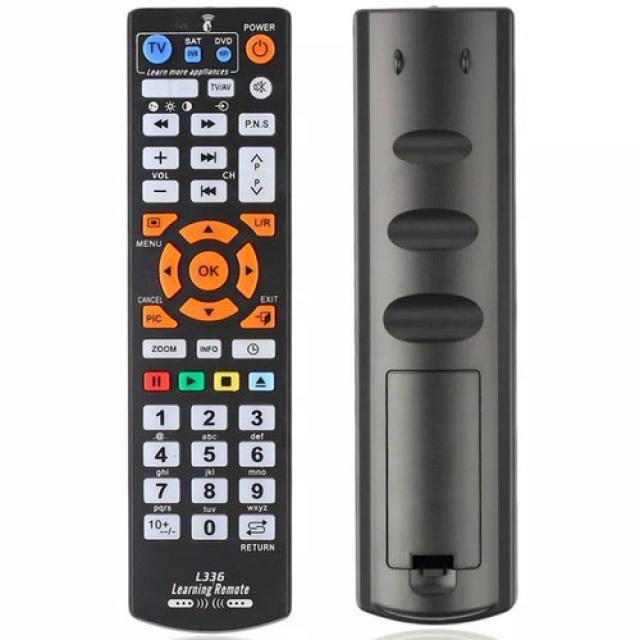remote: (128, 5, 293, 640), (358, 5, 512, 633)
